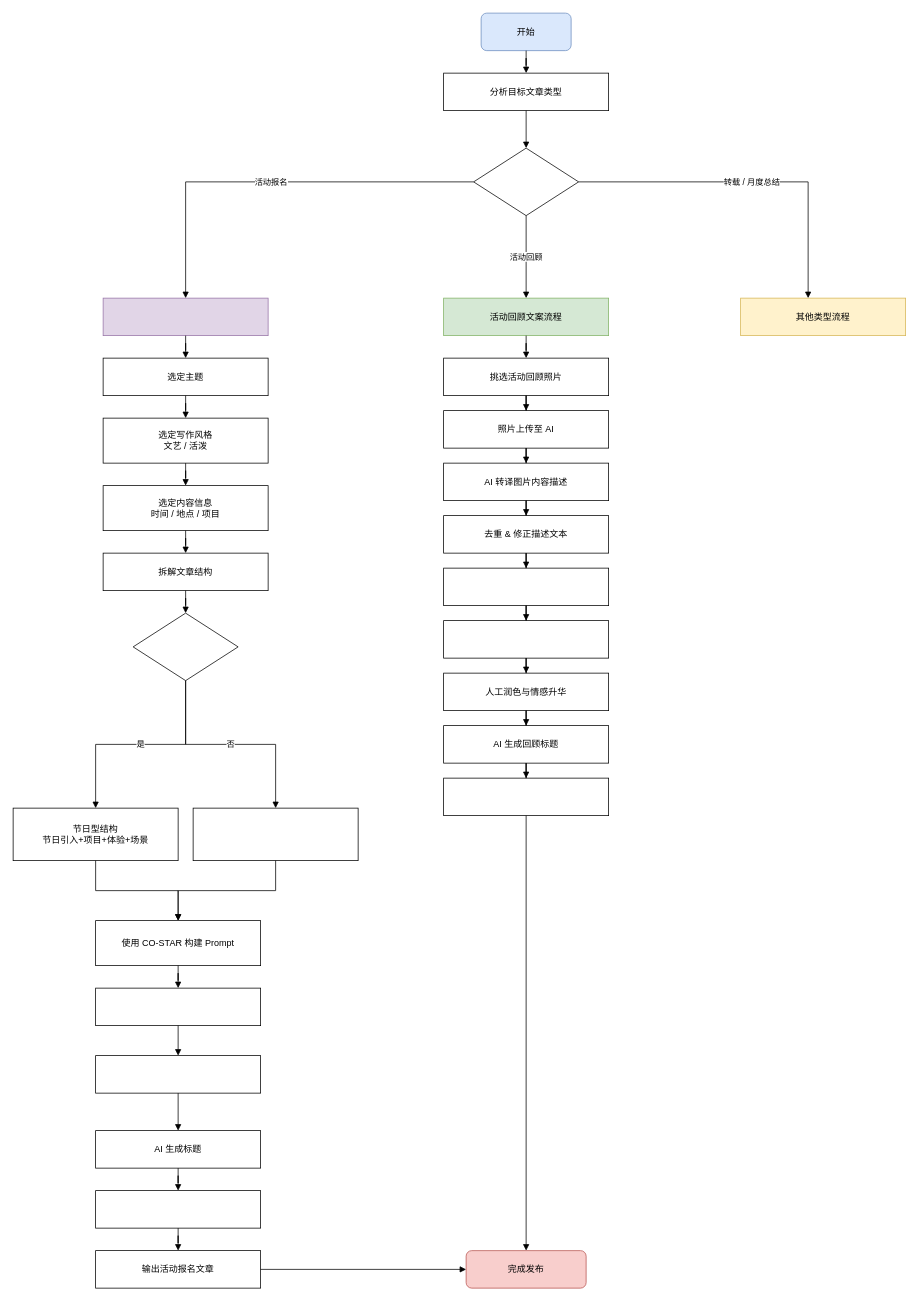
The diagram is 919 pixels wide and 1301 high, and some of its shapes have lost their labels. Here are the shapes that lost their labels. From the top down, the box of each, then its label:
(473, 147, 579, 216): 文章类型判断
(102, 297, 268, 336): 活动报名文案流程
(443, 567, 609, 606): 套用回顾文章结构
(132, 612, 238, 681): 是否节日绑定
(443, 620, 609, 658): AI 生成回顾正文
(443, 777, 609, 816): 标题定稿
(192, 807, 358, 861): 常规结构 主题引入+项目+课程+场景
(95, 987, 261, 1026): AI 生成正文文案
(95, 1055, 261, 1093): 人工修订内容
(95, 1190, 261, 1228): 标题人工定稿
